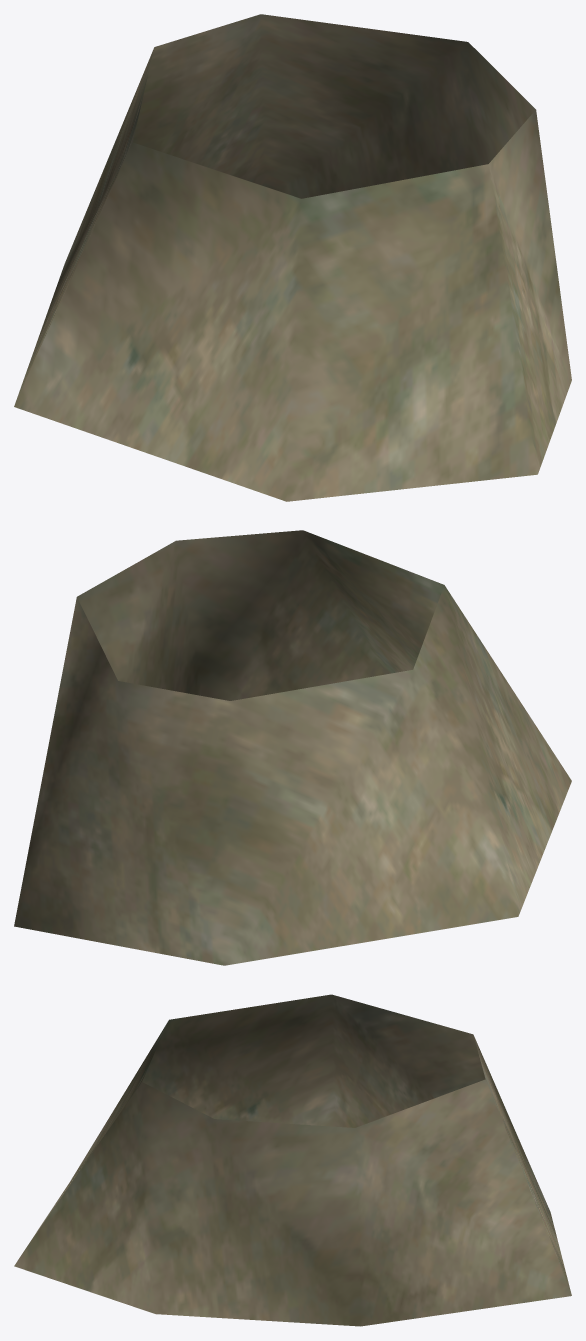
File: EKH_GROTTO_PS_GR_OBJECT53.fbx
3 views of the same model, one above another, from view 1: azimuth 30°, elevation 25°; view 2: azimuth 150°, elevation 25°; view 3: azimuth 270°, elevation 25° (orthographic). The views are drawn at different scales.
Visible parts, largest first — view 1: EKH_GROTTO_PS_GR_OBJECT53; view 2: EKH_GROTTO_PS_GR_OBJECT53; view 3: EKH_GROTTO_PS_GR_OBJECT53.
Boxes of the visible parts, x1,y1,x2,y2 form: EKH_GROTTO_PS_GR_OBJECT53: [14, 14, 571, 501]; EKH_GROTTO_PS_GR_OBJECT53: [14, 530, 571, 965]; EKH_GROTTO_PS_GR_OBJECT53: [14, 994, 571, 1326].
Bounding box in the file's own units: 13665 × 6693 × 17244.
1 material, 1 textured.
